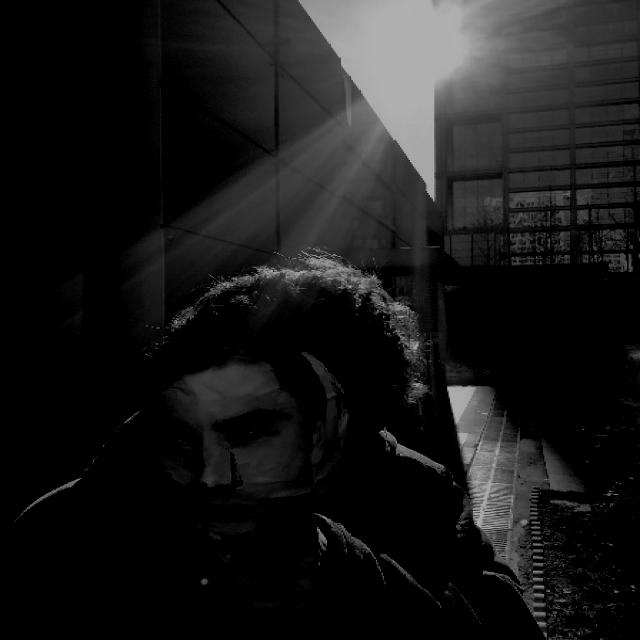fake: (130, 274, 402, 532)
